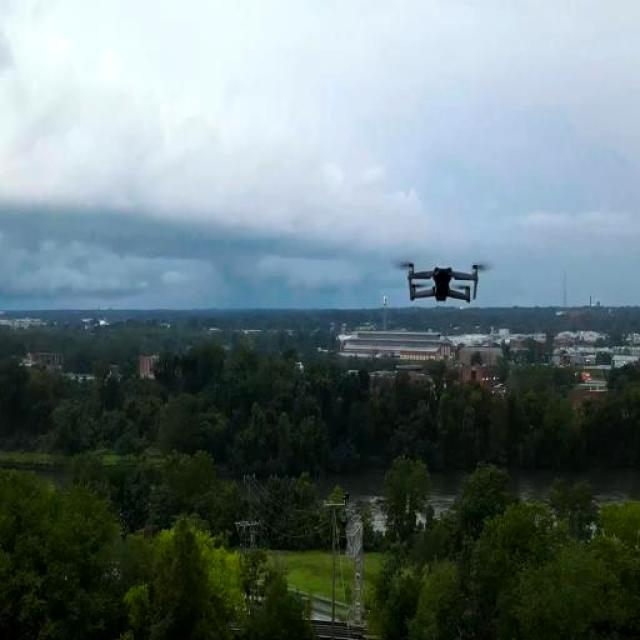bird: (380, 244, 506, 319)
